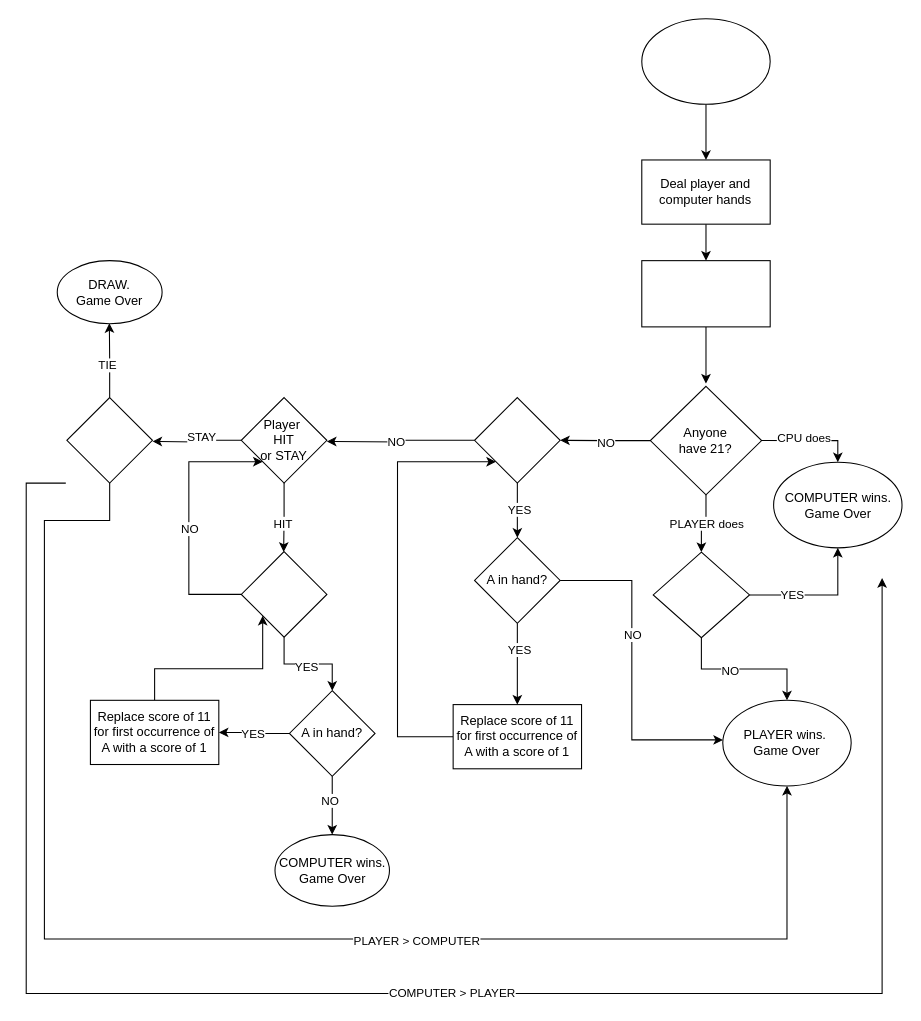
Image size: 921x1021. Some labels were removed from this diagram. Here are the shapes that lost their labels. From the top down, the centre of each, then its label:
the point at 705,61: START
the point at 705,293: Calculate Score. Display 1st CPU card only, and entire player hand.
the point at 109,439: Compare Scores
the point at 516,439: CPU > 21?
the point at 283,594: Over 21?
the point at 701,594: Does CPU have 21?
